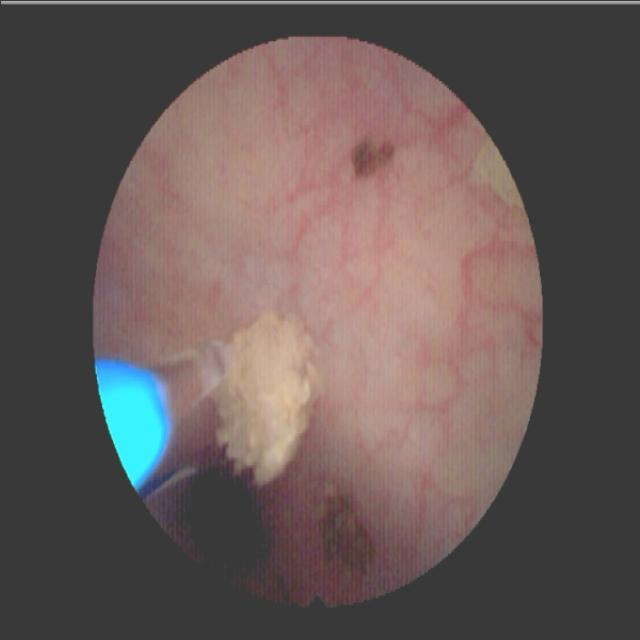fiber: (97, 360, 168, 481)
stone: (215, 309, 312, 483), (469, 139, 514, 206)
tissue: (98, 53, 525, 591)
